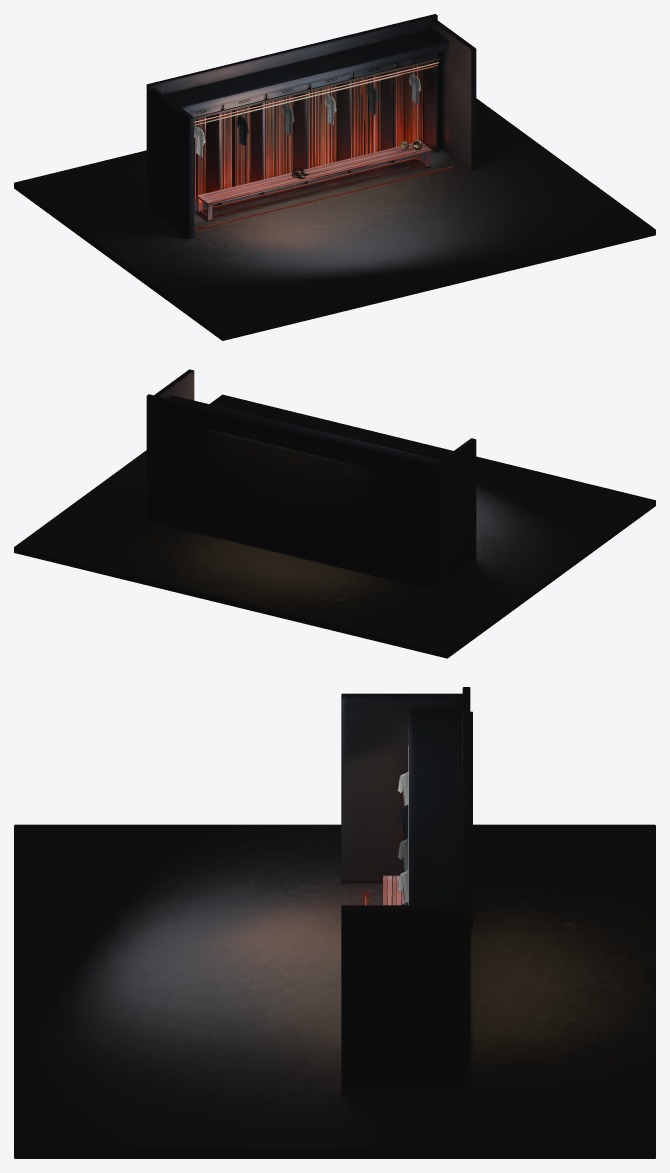
Rendered from vestiaire.glb.
The picture shows the model from 3 angles, top to bottom: view 1: azimuth 30°, elevation 25°; view 2: azimuth 150°, elevation 25°; view 3: azimuth 270°, elevation 25°; orthographic projection. The views are drawn at different scales.
Parts seen in each view (by area): view 1: room-static; view 2: room-static; view 3: room-static.
Part boxes in pixels (box(x1,y1,x2,y2)): room-static: box(14, 14, 655, 340); room-static: box(14, 369, 655, 658); room-static: box(14, 687, 655, 1158).
Bounding box in the file's own units: 12 × 3.46 × 10.
7 materials, 1 textured.
